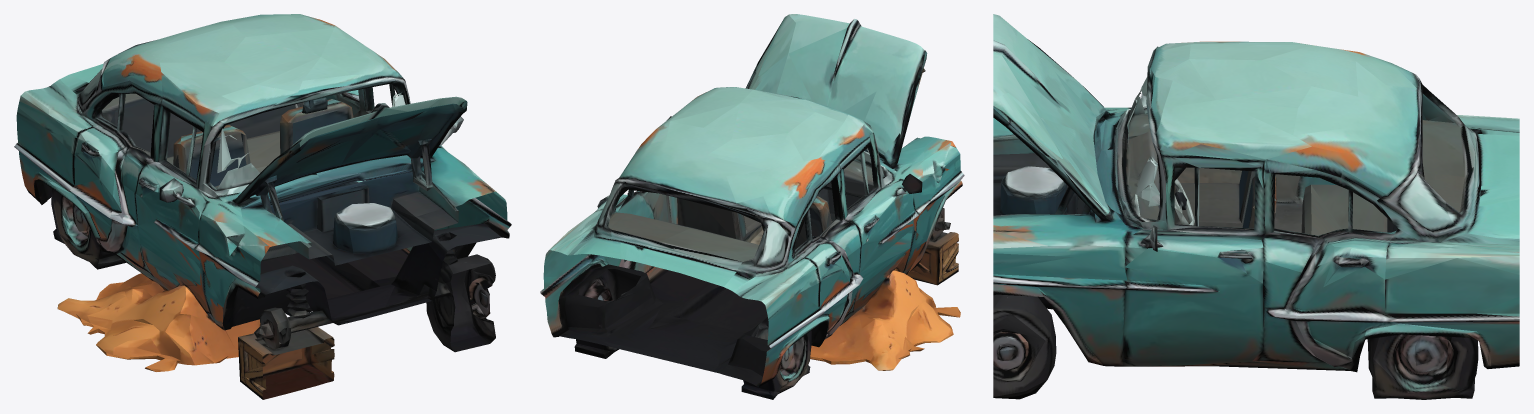
Rendered from covers_charrette_w.glb.
3 views of the same model, side by side, from view 1: azimuth 30°, elevation 25°; view 2: azimuth 150°, elevation 25°; view 3: azimuth 270°, elevation 25° (orthographic). The views are drawn at different scales.
Visible parts, largest first — view 1: wl_car_wreck; view 2: wl_car_wreck; view 3: wl_car_wreck.
Boxes of the visible parts, x1=… form: wl_car_wreck: x1=14, y1=14, x2=511, y2=399; wl_car_wreck: x1=540, y1=14, x2=964, y2=399; wl_car_wreck: x1=993, y1=14, x2=1519, y2=399.
Bounding box in the file's own units: 3 × 2.2 × 3.5.
1 material, 1 textured.
